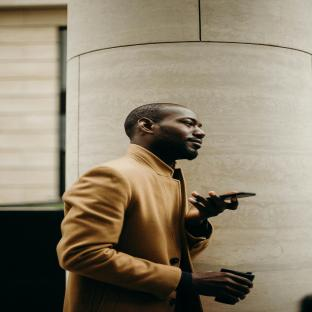Human: (57, 103, 253, 312)
